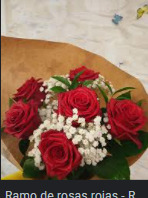RedRose: (35, 131, 82, 176), (109, 96, 147, 142), (52, 91, 102, 125), (5, 102, 43, 134), (14, 82, 51, 107), (63, 70, 109, 86)
